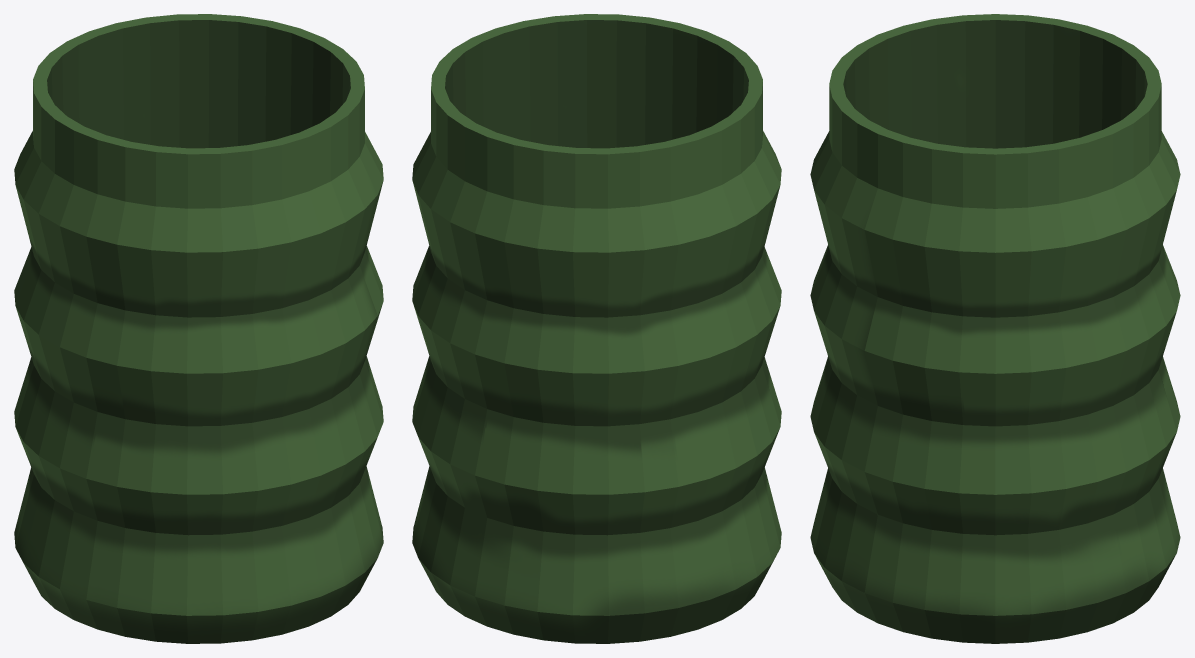
File: copo3.fbx
The picture shows the model from 3 angles, left to right: view 1: azimuth 30°, elevation 25°; view 2: azimuth 150°, elevation 25°; view 3: azimuth 270°, elevation 25°; orthographic projection.
Visible parts, largest first — view 1: Cylinder; view 2: Cylinder; view 3: Cylinder.
Part boxes in pixels (x1=…): Cylinder: x1=14, y1=14, x2=383, y2=643; Cylinder: x1=412, y1=14, x2=781, y2=643; Cylinder: x1=810, y1=14, x2=1180, y2=643.
Bounding box in the file's own units: 271 × 396 × 271.
Materials: 1 (1 with a texture image).
